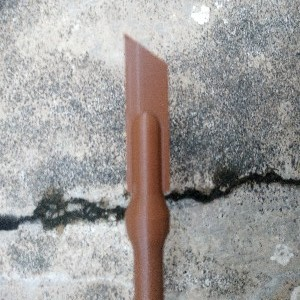cutter: (122, 30, 171, 300)
